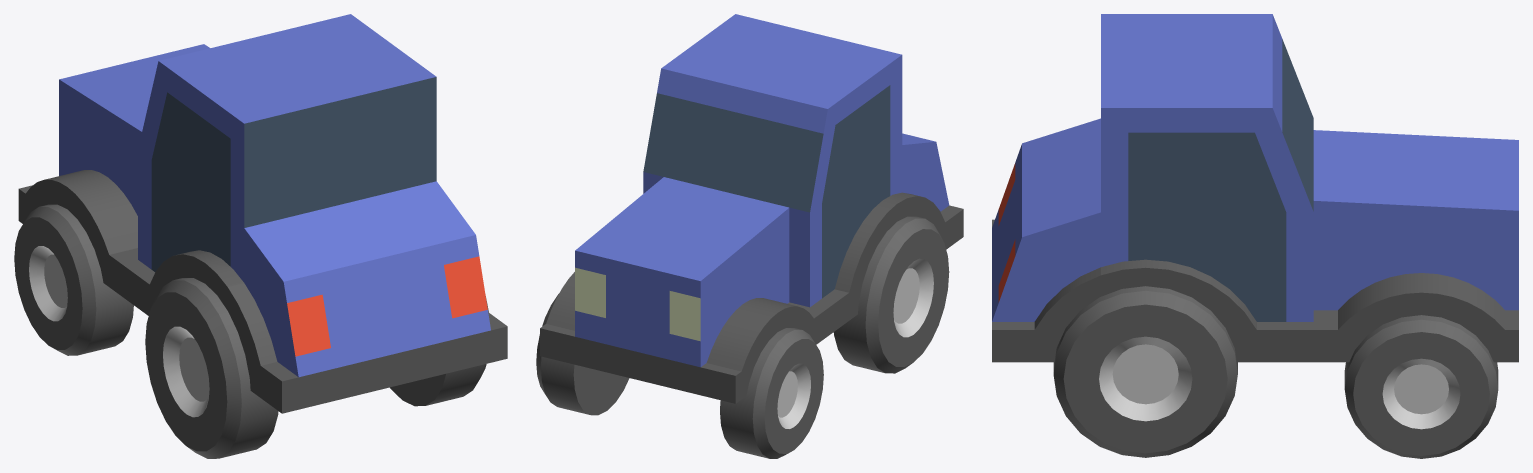
The model's file is carTractor.obj.
3 renders of one model, left to right at view 1: azimuth 30°, elevation 25°; view 2: azimuth 150°, elevation 25°; view 3: azimuth 270°, elevation 25°, orthographic. The views are drawn at different scales.
Visible parts, largest first — view 1: body 11, wheelBackLeft 11, wheelFrontLeft 11, wheelBackRight 11; view 2: body 11, wheelBackLeft 11, wheelFrontLeft 11, wheelFrontRight 11; view 3: body 11, wheelBackRight 11, wheelFrontRight 11.
Part boxes in pixels (x1,y1,x2,y2): body 11: (18,14,507,413); wheelBackLeft 11: (145,278,278,458); wheelFrontLeft 11: (14,204,133,355); wheelBackRight 11: (390,296,488,406); body 11: (540,14,963,403); wheelBackLeft 11: (833,216,949,373); wheelFrontLeft 11: (720,328,823,458); wheelFrontRight 11: (536,294,629,415); body 11: (992,14,1518,362); wheelBackRight 11: (1053,286,1237,457); wheelFrontRight 11: (1344,315,1498,458).
Bounding box in the file's own units: 5.55 × 6.83 × 9.6.
